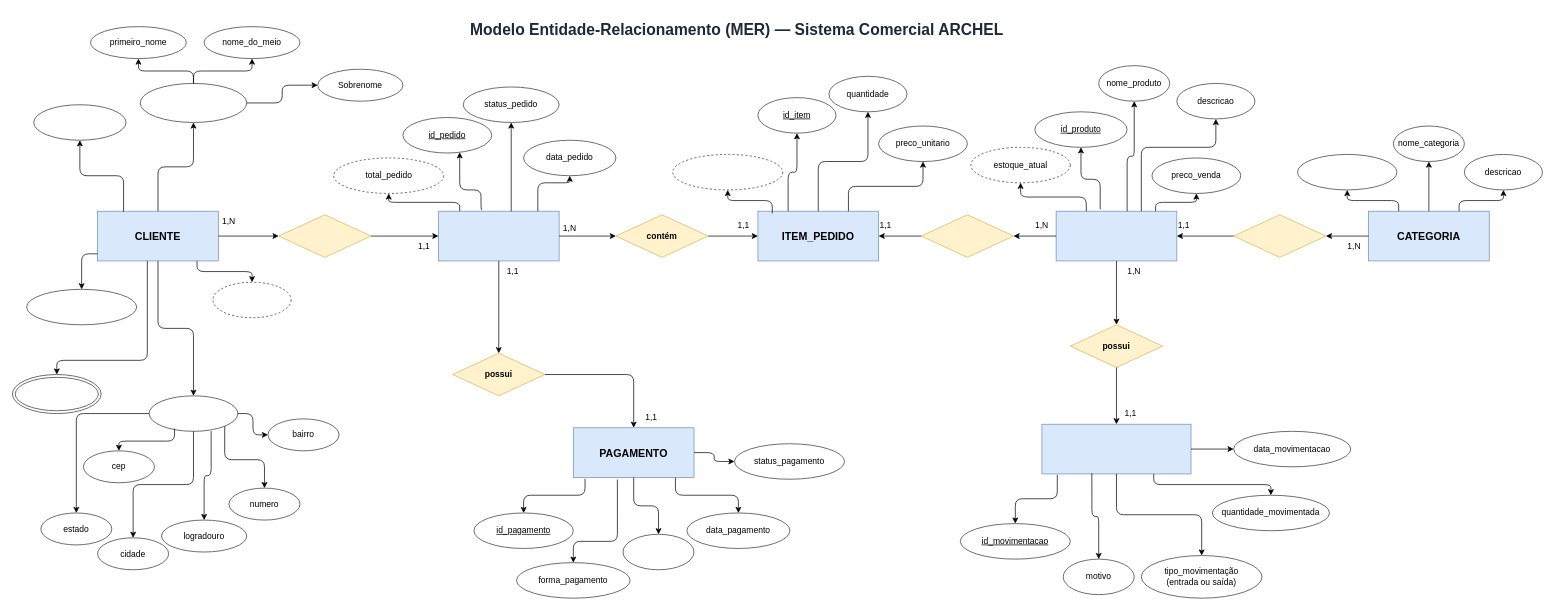
This 1555x611 diagram has some shape labels left out. The centre of each missing label's shape, as x and y in pixels:
"classifica" goes at (x=1279, y=235).
"compõe" goes at (x=967, y=235).
"data_nascimento" goes at (x=81, y=307).
"endereco" goes at (x=193, y=413).
"id_categoria" goes at (x=1347, y=172).
"id_cliente" goes at (x=79, y=122).
"idade" goes at (x=251, y=300).
"MOVIMENTACAO_ESTOQUE" goes at (x=1116, y=449).
"nome_completo" goes at (x=193, y=102).
"PEDIDO" goes at (x=498, y=236).
"PRODUTO" goes at (x=1116, y=236).
"realiza" goes at (x=324, y=235).
"subtotal_item" goes at (x=727, y=172).
"telefone" goes at (x=56, y=394).
"valor_pago" goes at (x=658, y=552).
